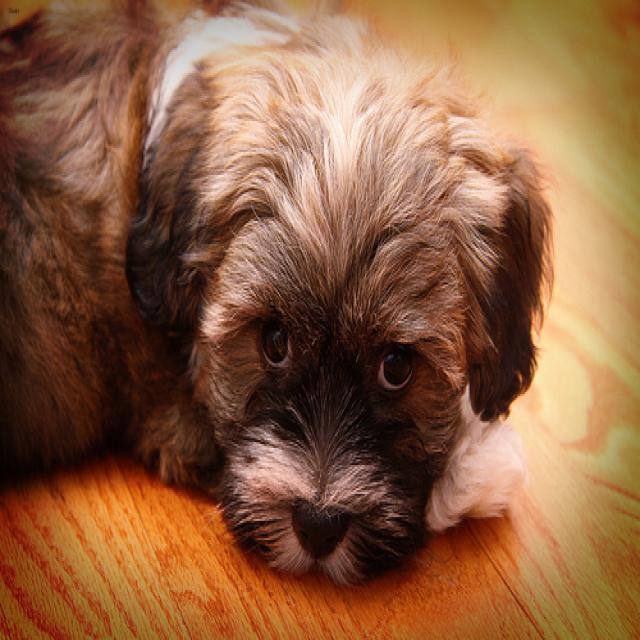dog-havanese: (1, 2, 558, 600)
